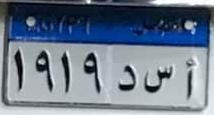1: (10, 40, 30, 97), (57, 45, 71, 93)
9: (78, 50, 105, 97), (33, 48, 53, 94)
أ: (174, 51, 202, 102)
د: (115, 60, 137, 96)
س: (139, 58, 172, 97)
